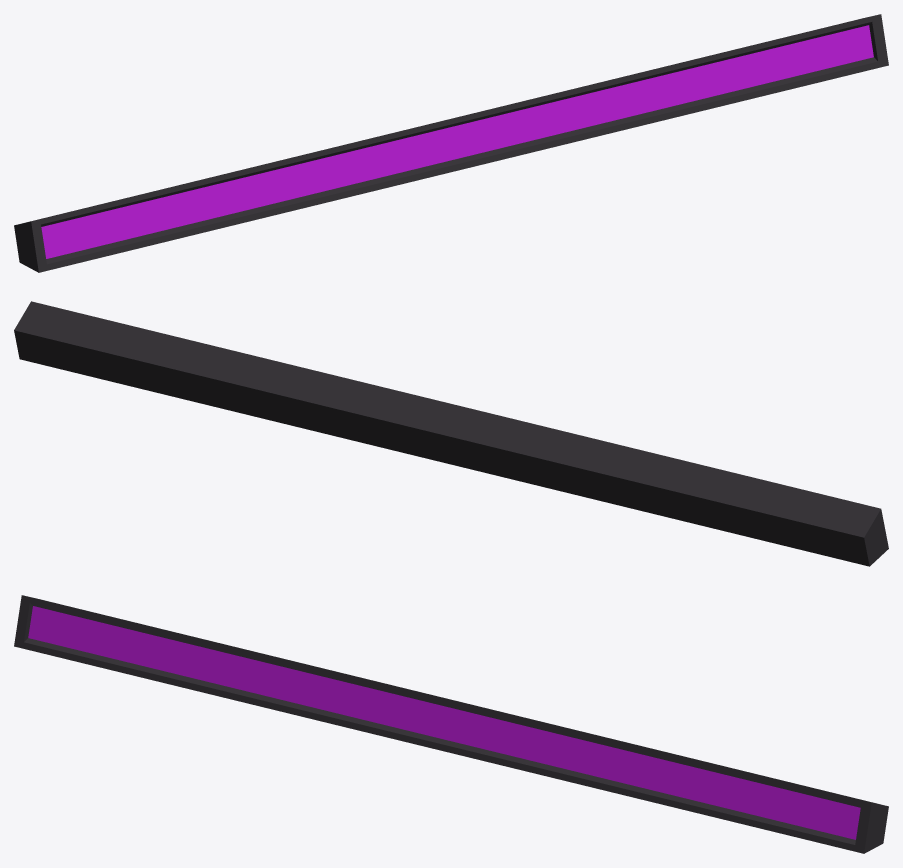
Rendered from Strip_LIght.fbx.
3 renders of one model, top to bottom at view 1: azimuth 30°, elevation 25°; view 2: azimuth 150°, elevation 25°; view 3: azimuth 330°, elevation 25°, orthographic.
Parts seen in each view (by area): view 1: pCube1; view 2: pCube1; view 3: pCube1.
Part boxes in pixels (x1,y1,x2,y2): pCube1: (14,14,888,272); pCube1: (14,301,888,566); pCube1: (14,595,888,853).
Bounding box in the file's own units: 360 × 20.02 × 18.25.
